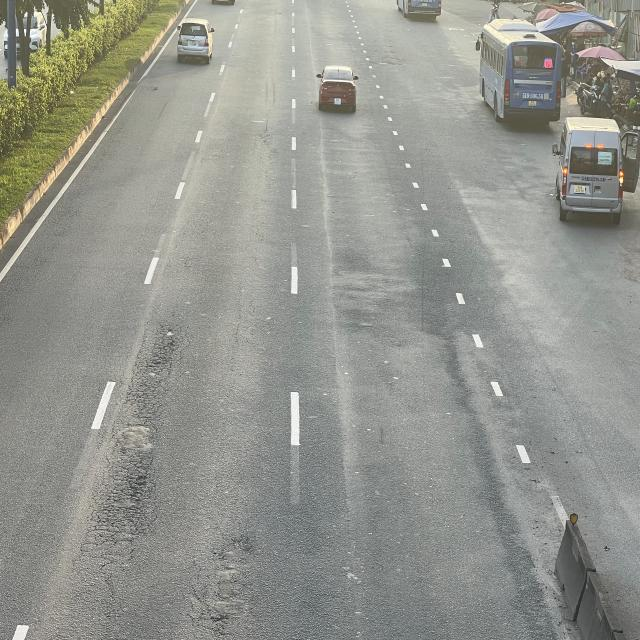car: (317, 64, 361, 112), (178, 16, 216, 59)
coach: (476, 19, 562, 121)
van: (554, 116, 625, 221)
